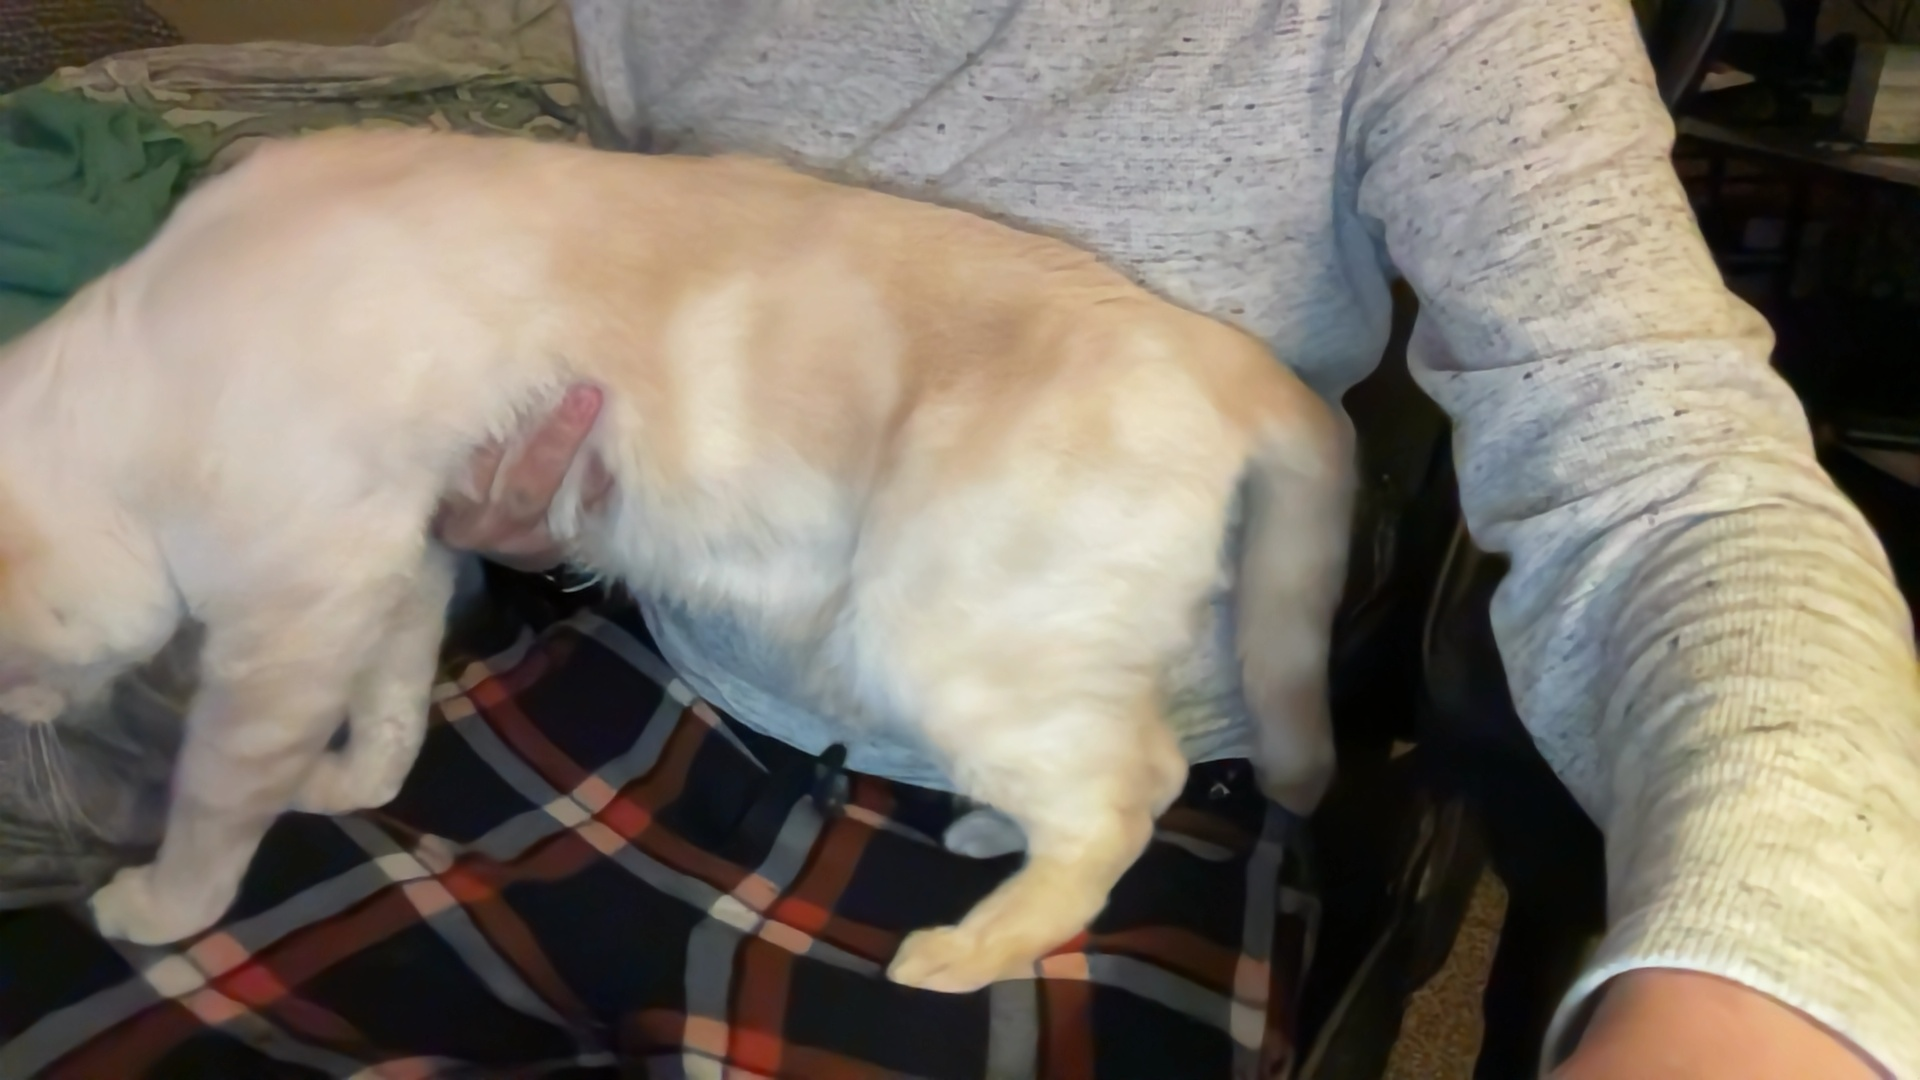cat: (3, 125, 1348, 996)
